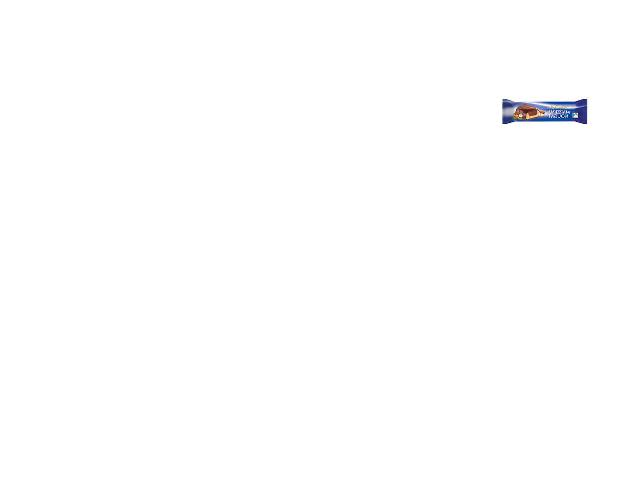chocolate: (491, 97, 589, 132)
